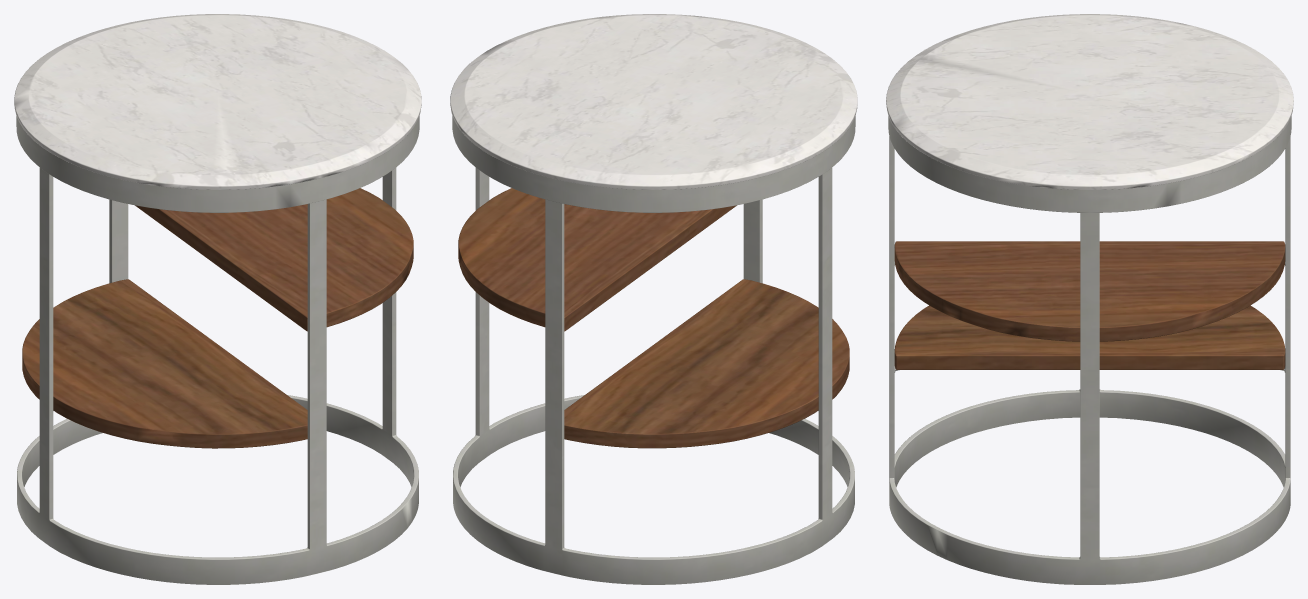
File: B072ZLMBH7.glb
The picture shows the model from 3 angles, left to right: view 1: azimuth 30°, elevation 25°; view 2: azimuth 150°, elevation 25°; view 3: azimuth 270°, elevation 25°; orthographic projection.
Visible parts, largest first — view 1: RootNode; view 2: RootNode; view 3: RootNode.
Boxes of the visible parts, x1=… form: RootNode: x1=14, y1=14, x2=421, y2=584; RootNode: x1=450, y1=14, x2=857, y2=584; RootNode: x1=886, y1=14, x2=1293, y2=584.
Bounding box in the file's own units: 0.4073 × 0.4474 × 0.4073.
1 material, 1 textured.
